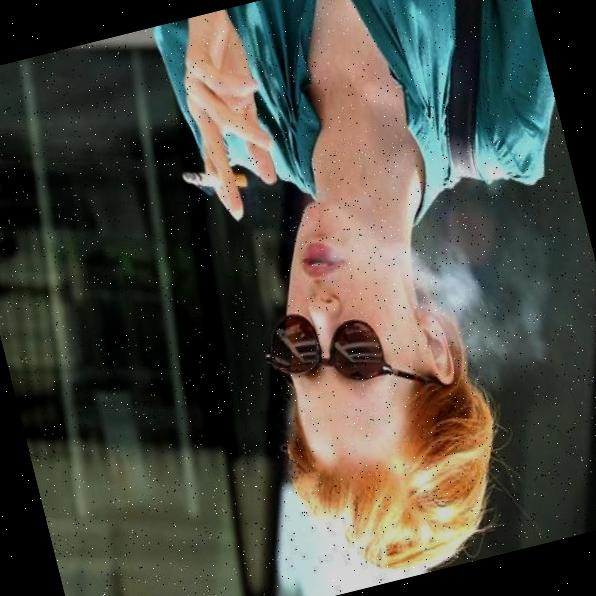smoke: (382, 202, 545, 374)
